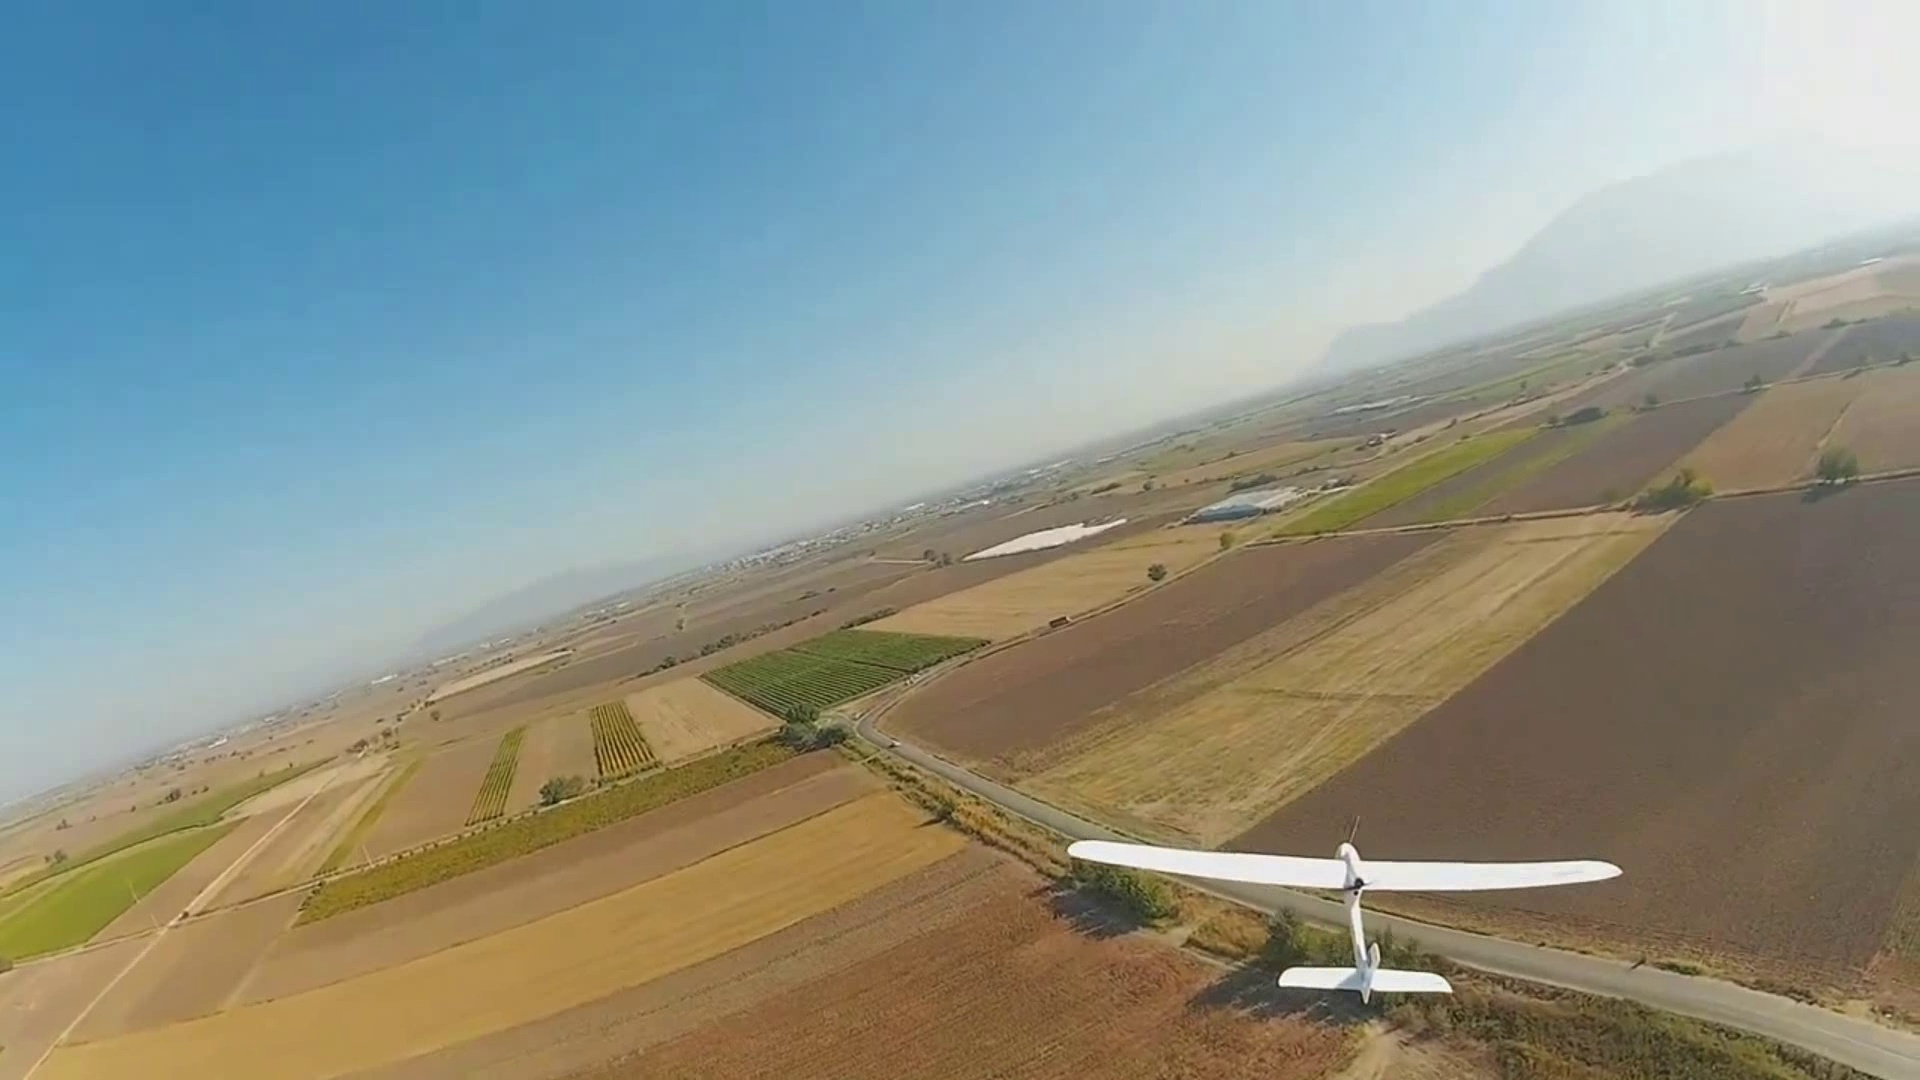airplane: (1059, 829, 1629, 1000)
